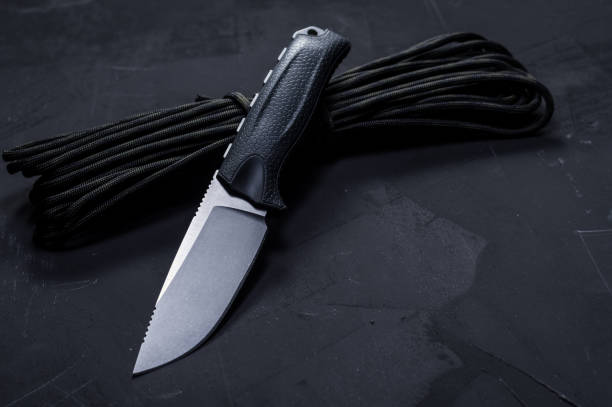knife: (126, 22, 355, 380)
